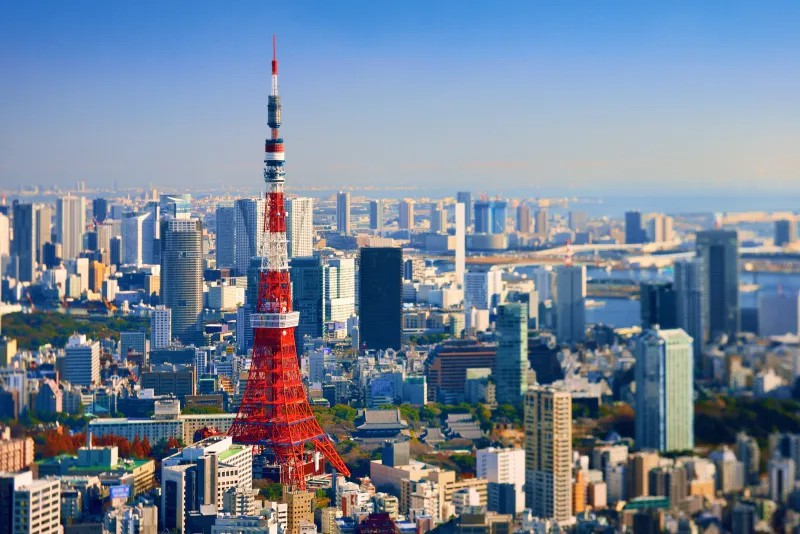Tokyo: (225, 33, 350, 485)
